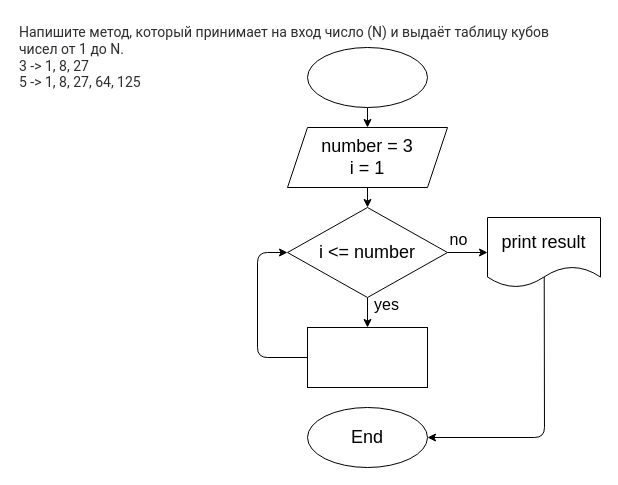
Image size: 618x485. Some labels were removed from this diagram. Each missing label, with the centre of its shape:
"i 3 i++" goes at (x=367, y=357).
"Start" goes at (x=367, y=77).
